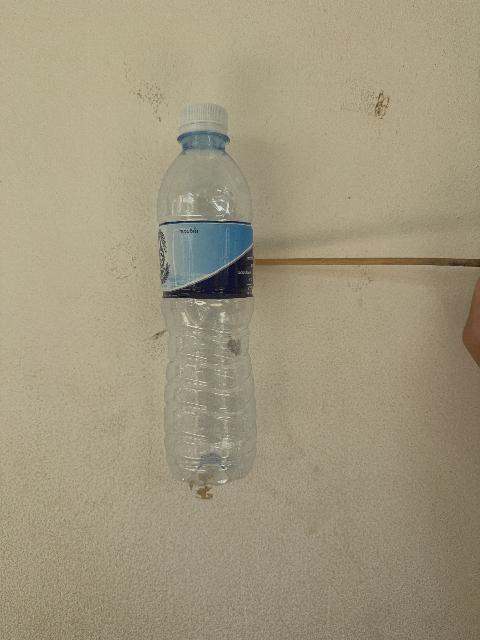bottle: (157, 104, 255, 485)
